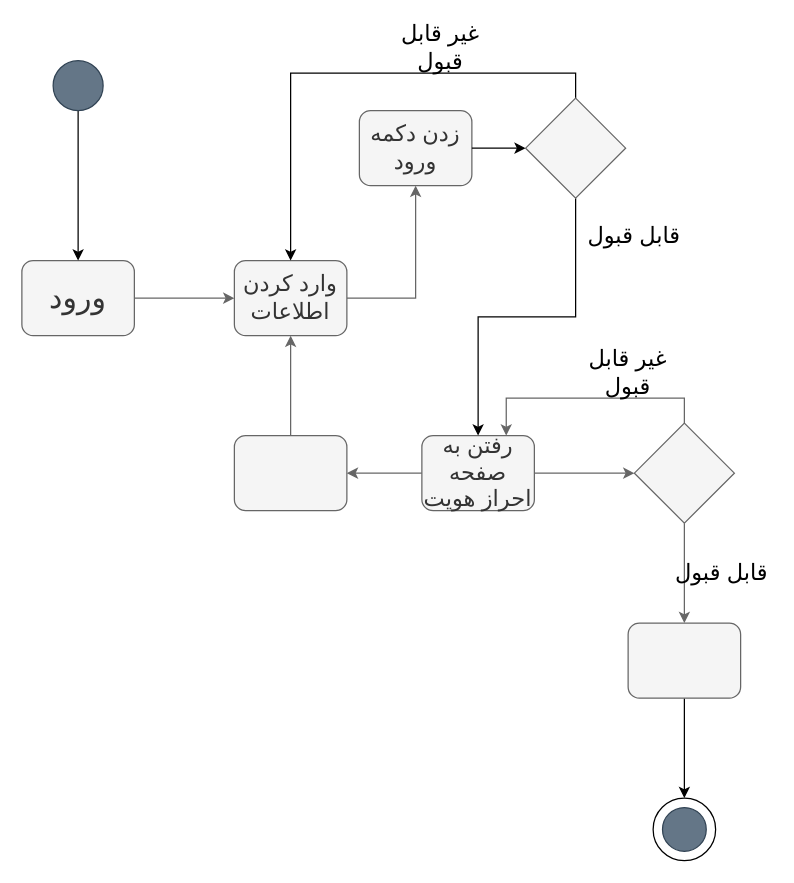
This 794x883 diagram has some shape labels left out. Here are the shapes that lost their labels. From the top down, the centre of each, then its label:
At pixel 290 472: "دکمه اصلاح شماره همراه".
At pixel 684 660: "وارد شدن به صفحه خانه".
